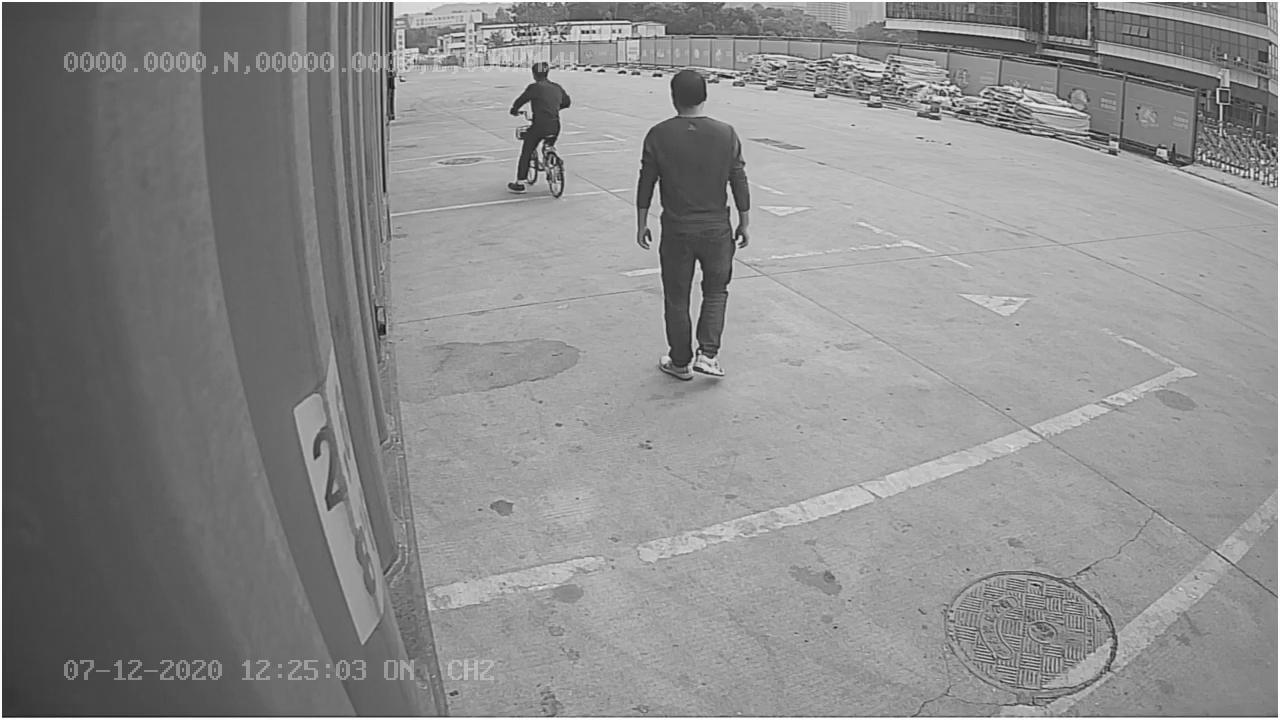person: (633, 64, 753, 388)
